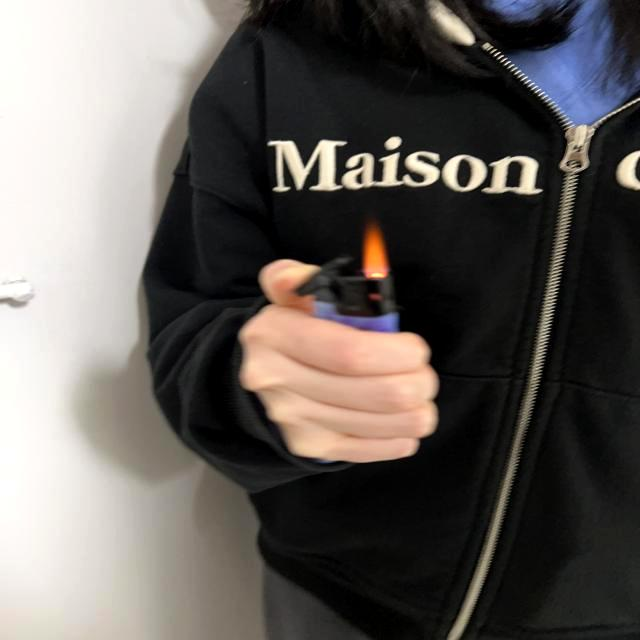fire: (361, 215, 392, 279)
